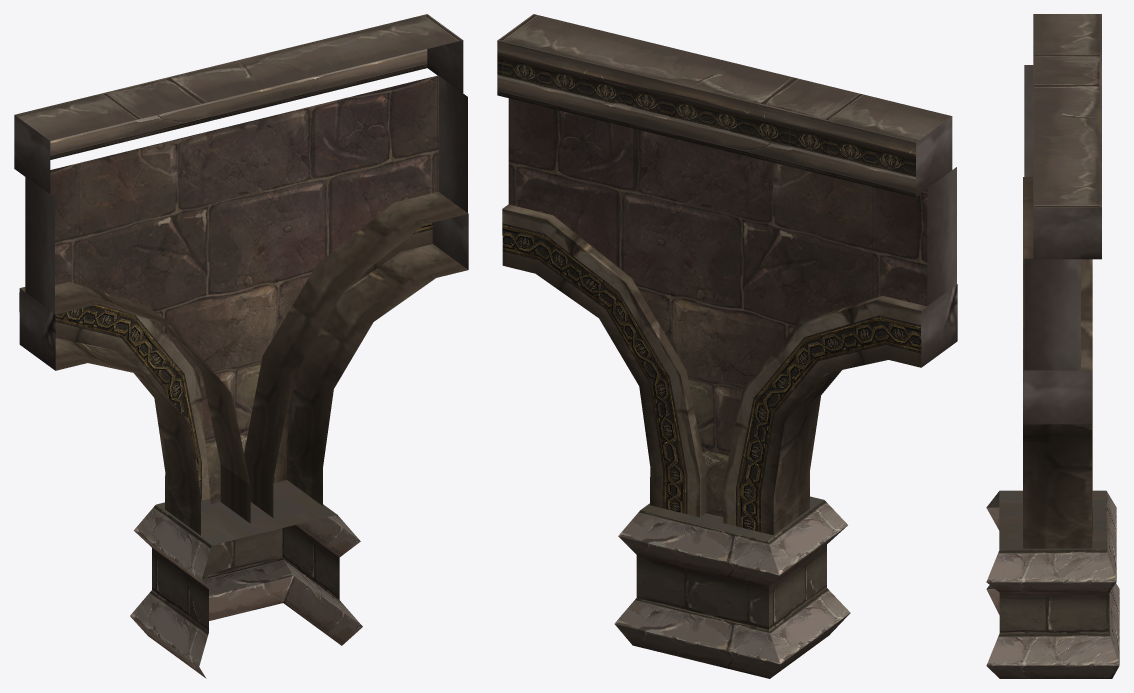
The model's file is arch_a_03.FBX.
3 renders of one model, left to right at view 1: azimuth 30°, elevation 25°; view 2: azimuth 150°, elevation 25°; view 3: azimuth 270°, elevation 25°, orthographic. The views are drawn at different scales.
Parts seen in each view (by area): view 1: arch_a_03; view 2: arch_a_03; view 3: arch_a_03.
Part boxes in pixels (x1,y1,x2,y2): arch_a_03: (14, 14, 468, 678); arch_a_03: (497, 14, 957, 678); arch_a_03: (986, 14, 1119, 678).
Bounding box in the file's own units: 4.09 × 5.29 × 1.19.
